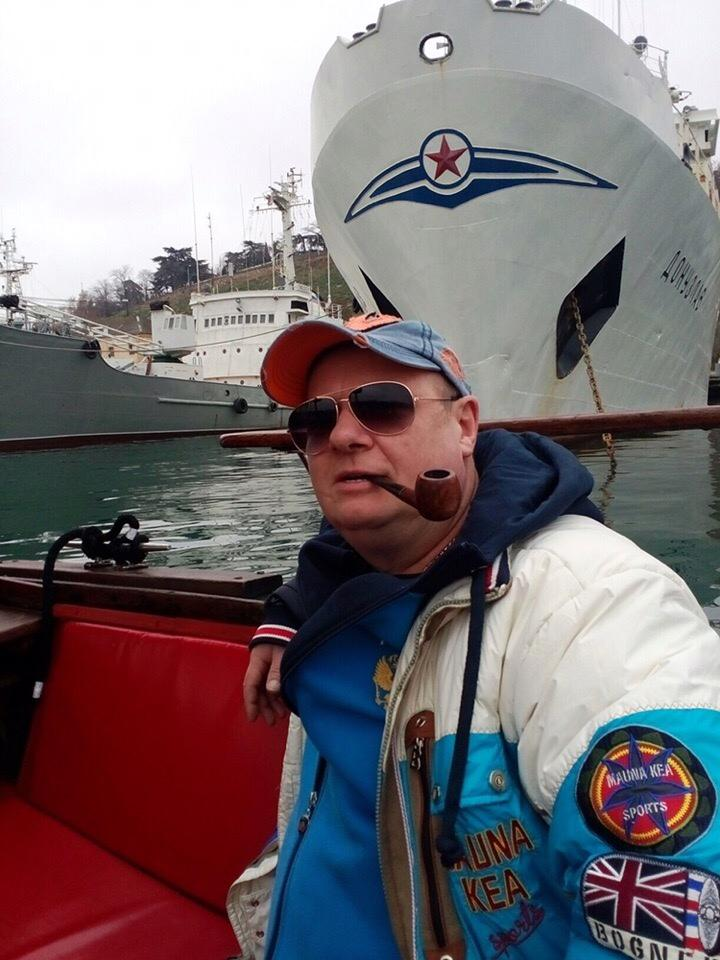trubka: (362, 469, 461, 520)
